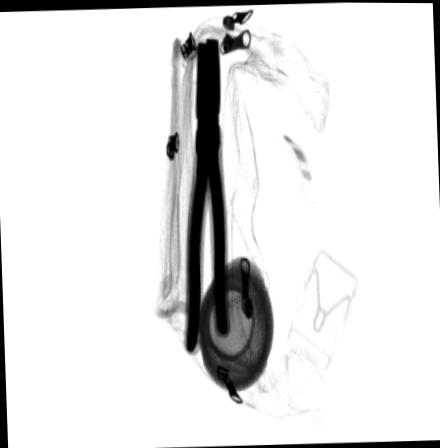Pliers: (182, 37, 229, 356)
